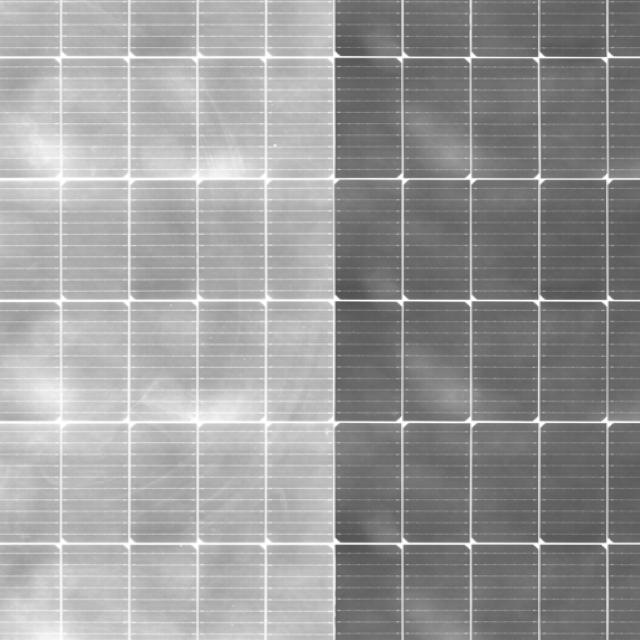CORRECT: (256, 0, 640, 640), (1, 0, 358, 635)
